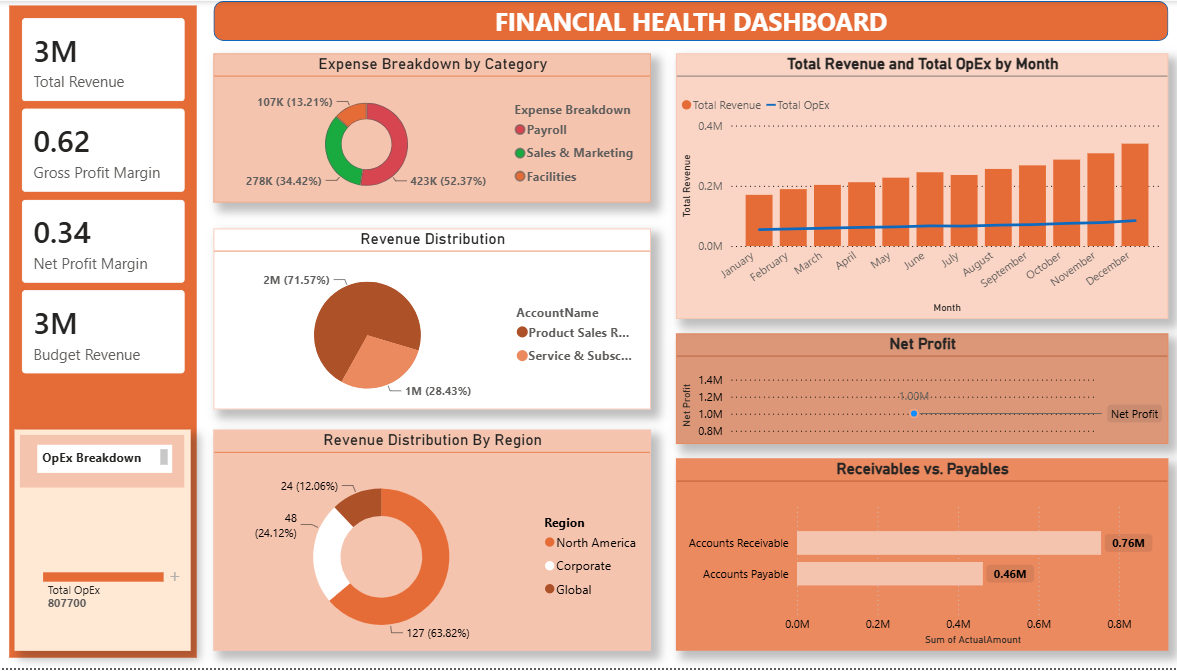

This screenshot's page, from the dashboard's own definition file:
{"tool":"powerbi","page":{"name":"Page 1","canvas":[1280,720],"ordinal":0},"visuals":[{"type":"cardVisual","fields":{"Data":["SME_Master_Financial_Dataset.Total Revenue","SME_Master_Financial_Dataset.Gross Profit Margin","SME_Master_Financial_Dataset.Net Profit Margin","SME_Master_Financial_Dataset.Budget Revenue"]},"box":[9.6,0,212.7,720.4],"z":0},{"type":"donutChart","title":"Expense Breakdown by Category","fields":{"Category":["SME_Master_Financial_Dataset.SubCategory"],"Y":["SME_Master_Financial_Dataset.Total OpEx"]},"box":[234.7,56.7,472.2,160.5],"z":1000},{"type":"pieChart","title":"Revenue Distribution","fields":{"Y":["SME_Master_Financial_Dataset.Total Revenue"],"Category":["SME_Master_Financial_Dataset.AccountName"]},"box":[234.6,245.6,472,194.9],"z":2000},{"type":"donutChart","title":"Revenue Distribution By Region","fields":{"Category":["SME_Master_Financial_Dataset.Region"],"Y":["CountNonNull(SME_Master_Financial_Dataset.ActualAmount)"]},"box":[234.6,462.4,472,238.8],"z":3000},{"type":"lineChart","fields":{"Y":["SME_Master_Financial_Dataset.Net Profit"]},"box":[734.1,359.5,531,119.4],"z":4000},{"type":"decompositionTreeVisual","fields":{"ExplainBy":["SME_Master_Financial_Dataset.SubCategory","SME_Master_Financial_Dataset.AccountName","SME_Master_Financial_Dataset.DepartmentName"],"Analyze":["SME_Master_Financial_Dataset.Total OpEx"]},"box":[20.6,462.4,189.4,238.8],"z":5000},{"type":"textbox","box":[43.9,478.9,145.5,30.2],"z":6000},{"type":"lineClusteredColumnComboChart","fields":{"Category":["SME_Master_Financial_Dataset.Date.Variation.Date Hierarchy.Month"],"Y":["SME_Master_Financial_Dataset.Total Revenue"],"Y2":["SME_Master_Financial_Dataset.Total OpEx"]},"box":[733.9,56.7,531.5,286],"z":7000},{"type":"clusteredBarChart","title":"Receivables vs. Payables","fields":{"Category":["SME_Master_Financial_Dataset.AccountName"],"Y":["Sum(SME_Master_Financial_Dataset.ActualAmount)"]},"box":[734.1,494,531,207.2],"z":8000},{"type":"shape","box":[234.7,0,1030.7,43.2],"z":8001}]}

Visuals, with their boxes in screenshot pixels (x1, y1, x2, y2), scaled from the page's 1280x720 canvas onto the 1177x671 screenshot:
cardVisual - SME_Master_Financial_Dataset.Total Revenue x SME_Master_Financial_Dataset.Gross Profit Margin: <box>9,0,204,670</box>
"Expense Breakdown by Category" donutChart: <box>216,53,650,202</box>
"Revenue Distribution" pieChart: <box>216,229,650,411</box>
"Revenue Distribution By Region" donutChart: <box>216,431,650,653</box>
lineChart - SME_Master_Financial_Dataset.Net Profit: <box>675,335,1163,446</box>
decompositionTreeVisual - SME_Master_Financial_Dataset.SubCategory x SME_Master_Financial_Dataset.AccountName: <box>19,431,193,653</box>
textbox: <box>40,446,174,474</box>
lineClusteredColumnComboChart - SME_Master_Financial_Dataset.Date.Variation.Date Hierarchy.Month x SME_Master_Financial_Dataset.Total Revenue: <box>675,53,1164,319</box>
"Receivables vs. Payables" clusteredBarChart: <box>675,460,1163,653</box>
shape: <box>216,0,1164,40</box>
